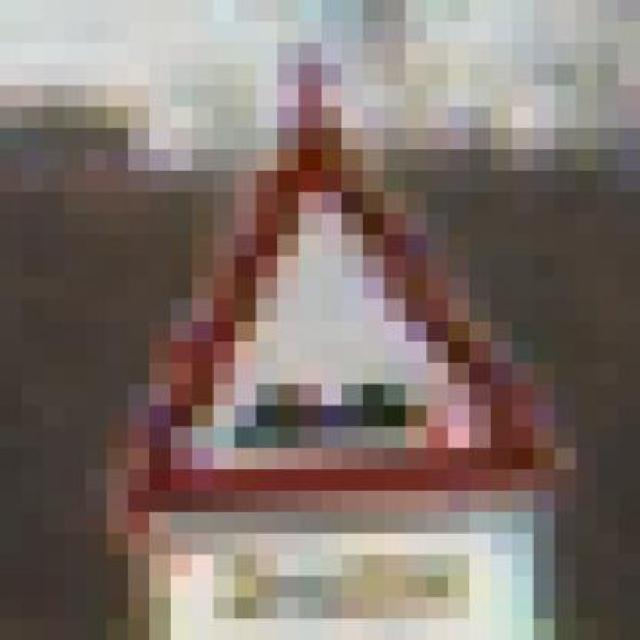Uneven Road: (86, 43, 554, 512)
